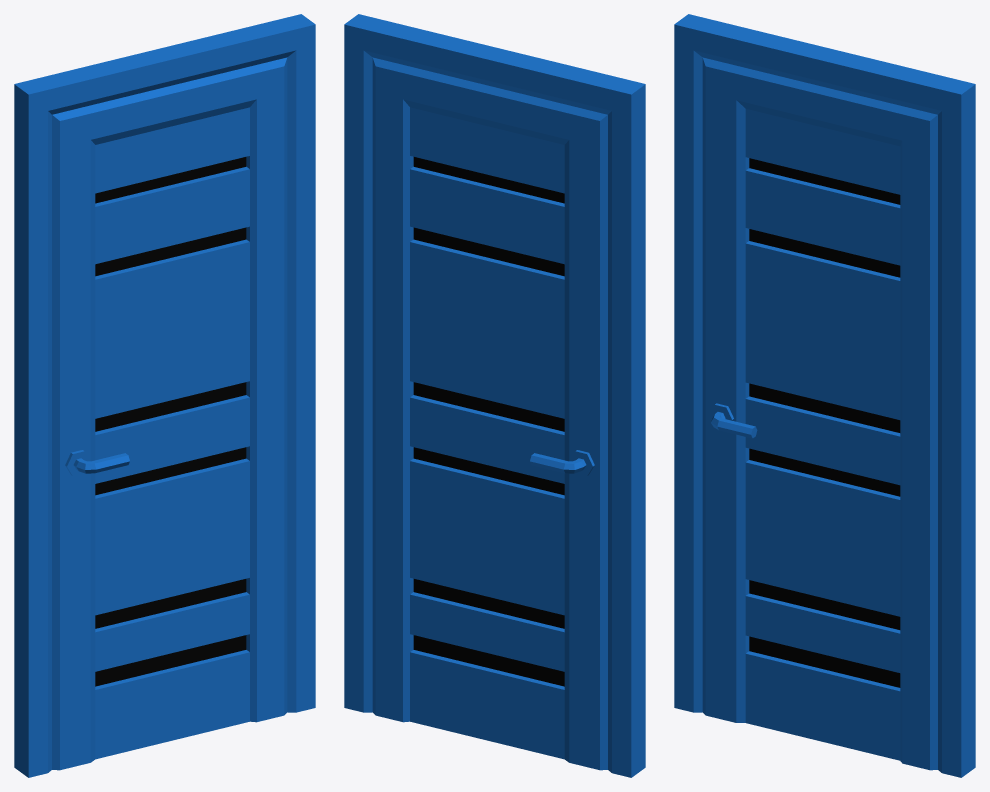
Rendered from space_door_4.fbx.
3 renders of one model, left to right at view 1: azimuth 30°, elevation 25°; view 2: azimuth 150°, elevation 25°; view 3: azimuth 330°, elevation 25°, orthographic.
Parts seen in each view (by area): view 1: Symmetry_44; view 2: Symmetry_44; view 3: Symmetry_44.
Part boxes in pixels (x1=…): Symmetry_44: x1=14, y1=14, x2=315, y2=777; Symmetry_44: x1=344, y1=14, x2=645, y2=777; Symmetry_44: x1=674, y1=14, x2=975, y2=777.
Bounding box in the file's own units: 92.39 × 210 × 21.69.
